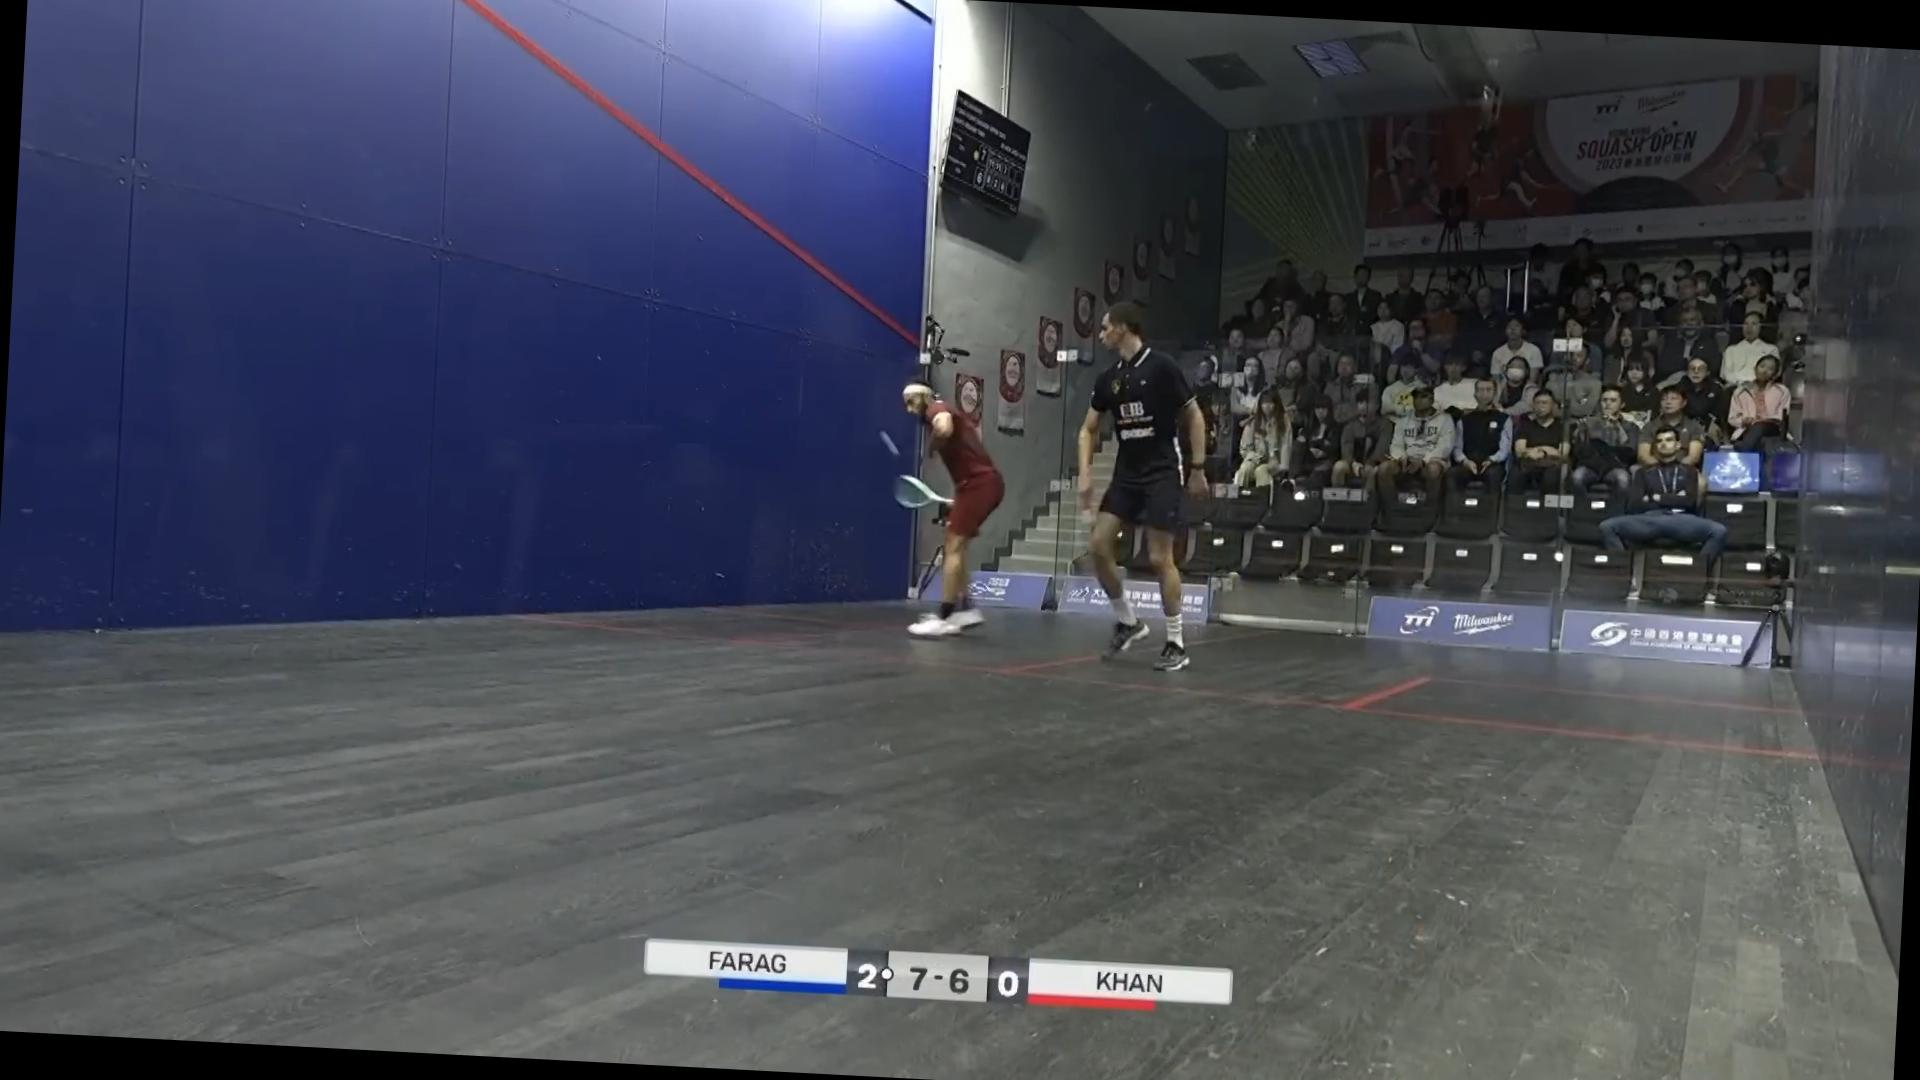Racket: (881, 468, 956, 518)
